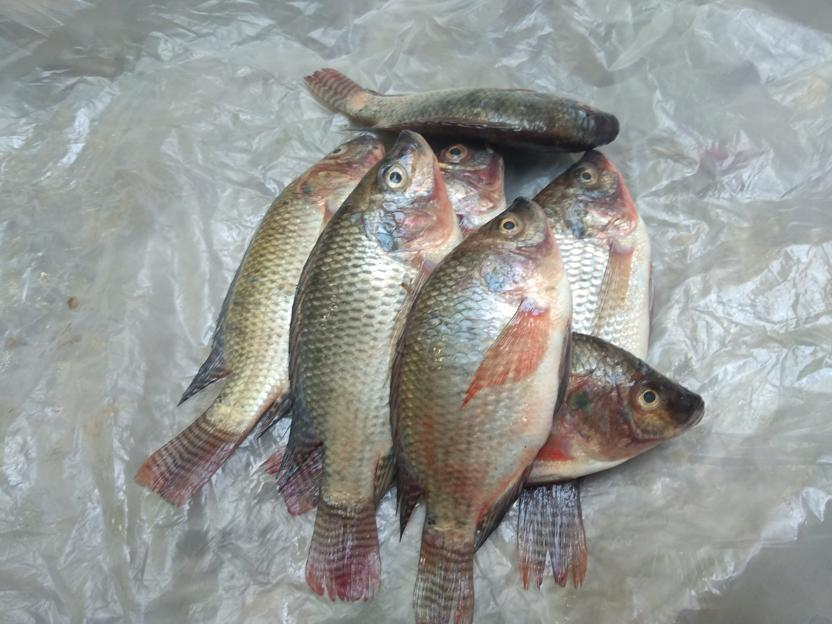Fish head: (571, 339, 705, 464), (341, 130, 455, 253), (454, 194, 565, 294), (536, 149, 646, 241), (292, 135, 387, 210), (435, 142, 509, 230), (539, 94, 618, 152)
Fish tail: (132, 406, 246, 509), (304, 494, 386, 605), (514, 482, 589, 592), (412, 535, 479, 622), (300, 66, 363, 112)
